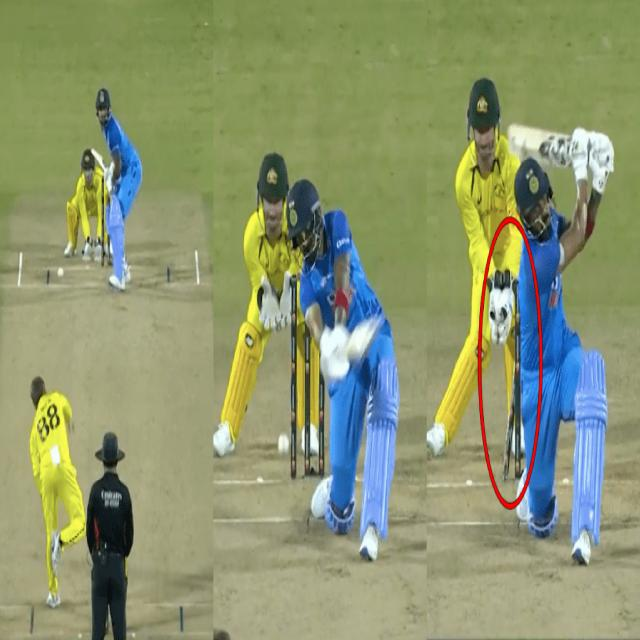stump: (290, 273, 330, 479), (500, 277, 525, 486), (100, 178, 116, 265)
